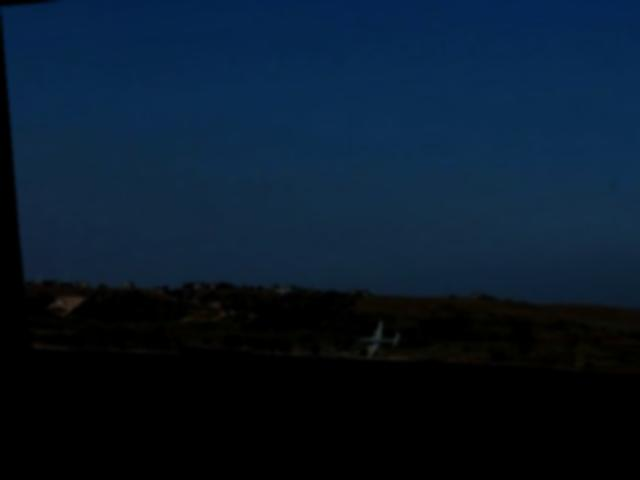iha: (349, 323, 396, 362)
